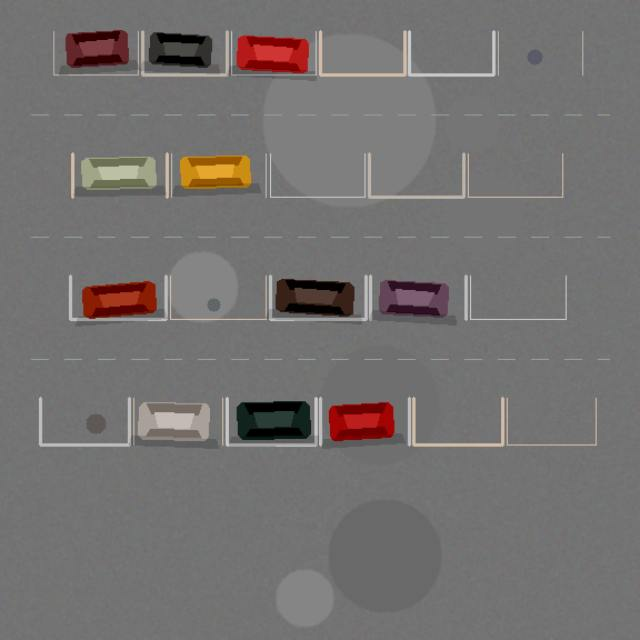space-empty: (270, 153, 364, 197), (369, 153, 463, 197), (468, 153, 562, 197), (170, 276, 266, 319), (470, 276, 566, 319), (40, 398, 129, 444), (413, 398, 502, 444), (507, 398, 596, 444), (320, 31, 404, 74), (409, 31, 493, 74), (498, 31, 582, 74)
space-occupied: (72, 153, 167, 197), (171, 153, 266, 197), (70, 276, 166, 319), (270, 276, 366, 319), (370, 276, 466, 319), (133, 398, 222, 444), (227, 398, 316, 444), (320, 398, 409, 444), (53, 31, 138, 74), (142, 31, 227, 74), (231, 31, 316, 74)
